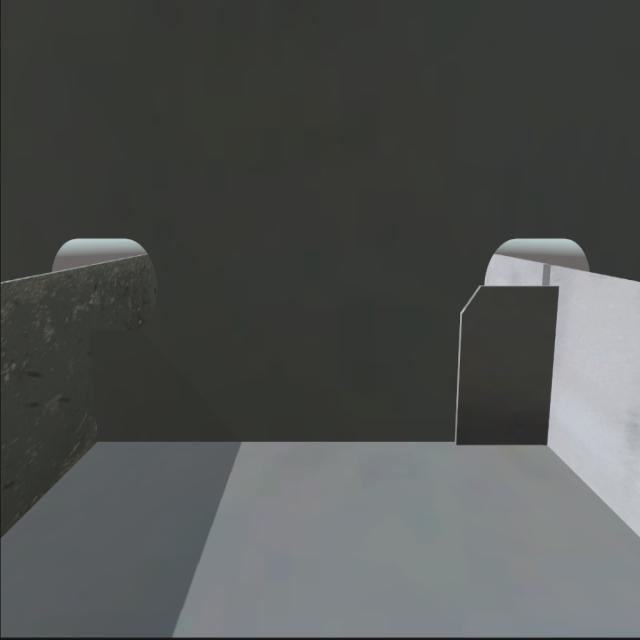fillet_yong_jeop_jang: (93, 428, 556, 452)
longi_yong_jeop_jang: (544, 284, 560, 450), (86, 321, 103, 447)
plate_CP03: (456, 282, 560, 444)
